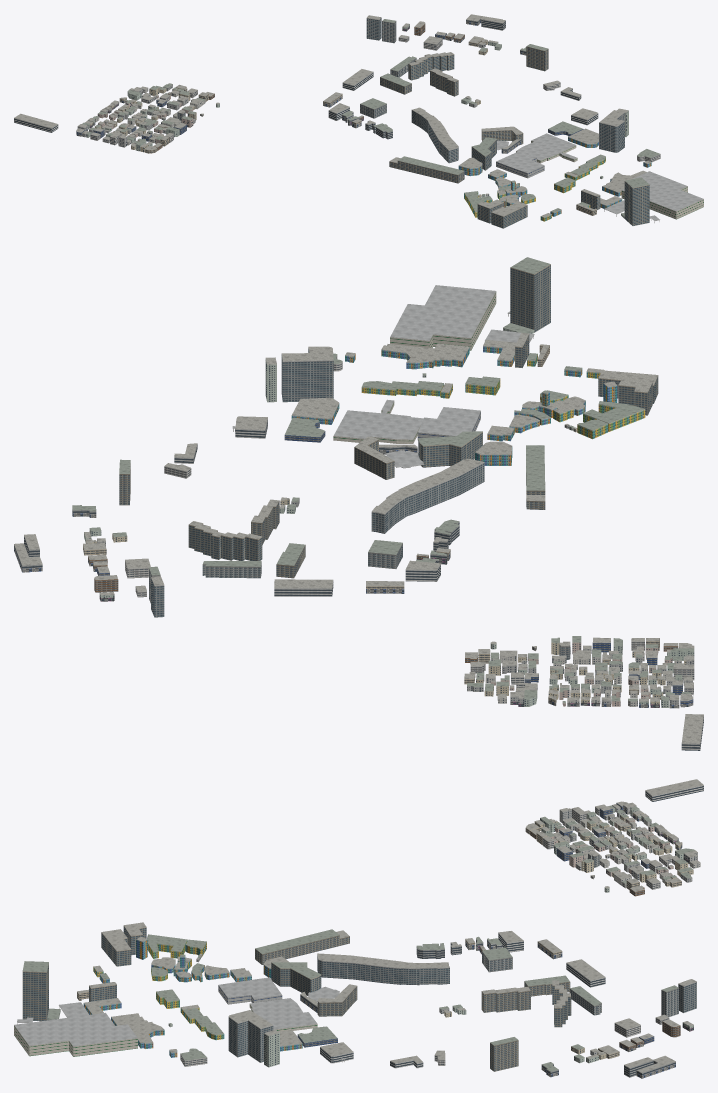
File: ArahaTown_Block_W01024_N01024.gltf
The picture shows the model from 3 angles, top to bottom: view 1: azimuth 30°, elevation 25°; view 2: azimuth 150°, elevation 25°; view 3: azimuth 270°, elevation 25°; orthographic projection. The views are drawn at different scales.
Parts seen in each view (by area): view 1: ArahaTown_Block_W01024_N01024; view 2: ArahaTown_Block_W01024_N01024; view 3: ArahaTown_Block_W01024_N01024.
Boxes of the visible parts, box(x1,y1,x2,y2) form: ArahaTown_Block_W01024_N01024: box(14, 14, 703, 228); ArahaTown_Block_W01024_N01024: box(14, 257, 703, 750); ArahaTown_Block_W01024_N01024: box(14, 779, 703, 1078).
Size of the model in its own units: 1049 by 88.53 by 1040.
25 materials, 24 textured.
